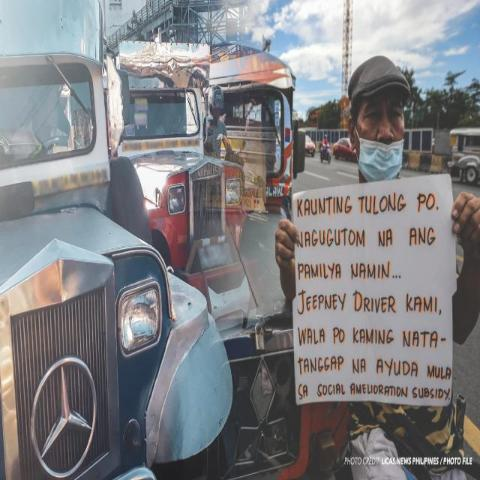jeepney: (5, 0, 229, 480), (112, 36, 255, 331)
